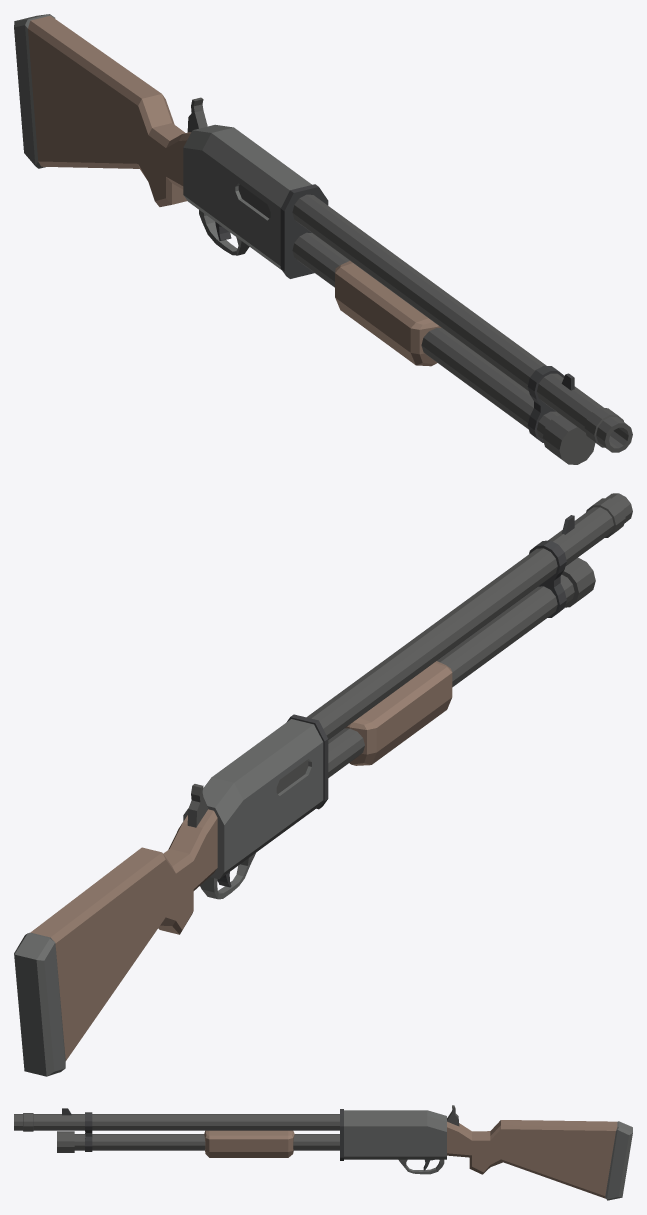
Rendered from shotgun_3.glb.
The picture shows the model from 3 angles, top to bottom: view 1: azimuth 30°, elevation 25°; view 2: azimuth 150°, elevation 25°; view 3: azimuth 270°, elevation 25°; orthographic projection. The views are drawn at different scales.
Visible parts, largest first — view 1: shotgun_3; view 2: shotgun_3; view 3: shotgun_3.
Boxes of the visible parts, x1,y1,x2,y2 form: shotgun_3: [14, 14, 632, 464]; shotgun_3: [14, 493, 632, 1076]; shotgun_3: [14, 1105, 632, 1200].
Bounding box in the file's own units: 0.0447 × 0.1711 × 1.05.
